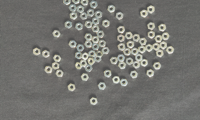nut: (166, 46, 175, 54), (160, 41, 168, 50), (147, 69, 155, 78), (139, 38, 148, 46), (126, 57, 134, 66), (112, 76, 121, 84), (33, 47, 41, 56), (162, 33, 170, 41), (159, 24, 167, 32), (156, 50, 164, 58), (155, 35, 163, 43), (148, 31, 156, 39), (148, 6, 156, 14), (141, 10, 149, 18), (148, 22, 156, 30), (141, 59, 149, 67), (133, 34, 141, 42), (133, 61, 141, 69), (130, 71, 138, 79), (120, 79, 128, 87), (123, 48, 131, 56), (127, 41, 135, 49), (125, 32, 133, 40), (119, 62, 127, 70), (118, 43, 126, 51), (118, 26, 126, 34), (110, 57, 118, 65), (104, 70, 112, 78), (90, 98, 98, 106), (116, 12, 124, 20), (108, 5, 116, 13), (102, 47, 110, 55), (99, 40, 107, 48), (92, 43, 100, 51), (88, 58, 96, 66), (85, 64, 93, 72), (81, 74, 89, 82), (68, 84, 76, 92), (90, 1, 98, 9), (95, 11, 103, 19), (87, 9, 95, 17), (85, 21, 93, 29), (77, 5, 85, 13), (80, 12, 88, 20), (69, 4, 77, 12), (70, 12, 78, 20), (65, 21, 73, 29), (80, 60, 88, 68), (77, 44, 85, 52), (69, 40, 77, 48), (53, 30, 61, 38), (52, 62, 60, 70), (56, 70, 64, 78), (45, 66, 53, 74), (42, 50, 50, 58), (153, 63, 162, 70), (117, 55, 126, 62), (118, 34, 125, 43), (98, 83, 107, 90), (82, 52, 89, 61), (53, 55, 62, 62), (153, 43, 160, 51), (146, 44, 153, 52), (139, 46, 146, 54), (136, 54, 143, 62), (132, 48, 139, 56), (103, 20, 110, 28), (96, 51, 104, 58), (94, 56, 102, 63), (92, 36, 100, 43), (97, 31, 105, 38), (89, 50, 96, 58), (92, 25, 100, 32), (93, 17, 100, 25), (85, 34, 93, 41), (85, 41, 93, 48), (76, 23, 83, 31), (76, 62, 83, 70), (76, 52, 83, 60), (81, 0, 89, 6), (73, 0, 81, 5), (64, 0, 71, 5)
